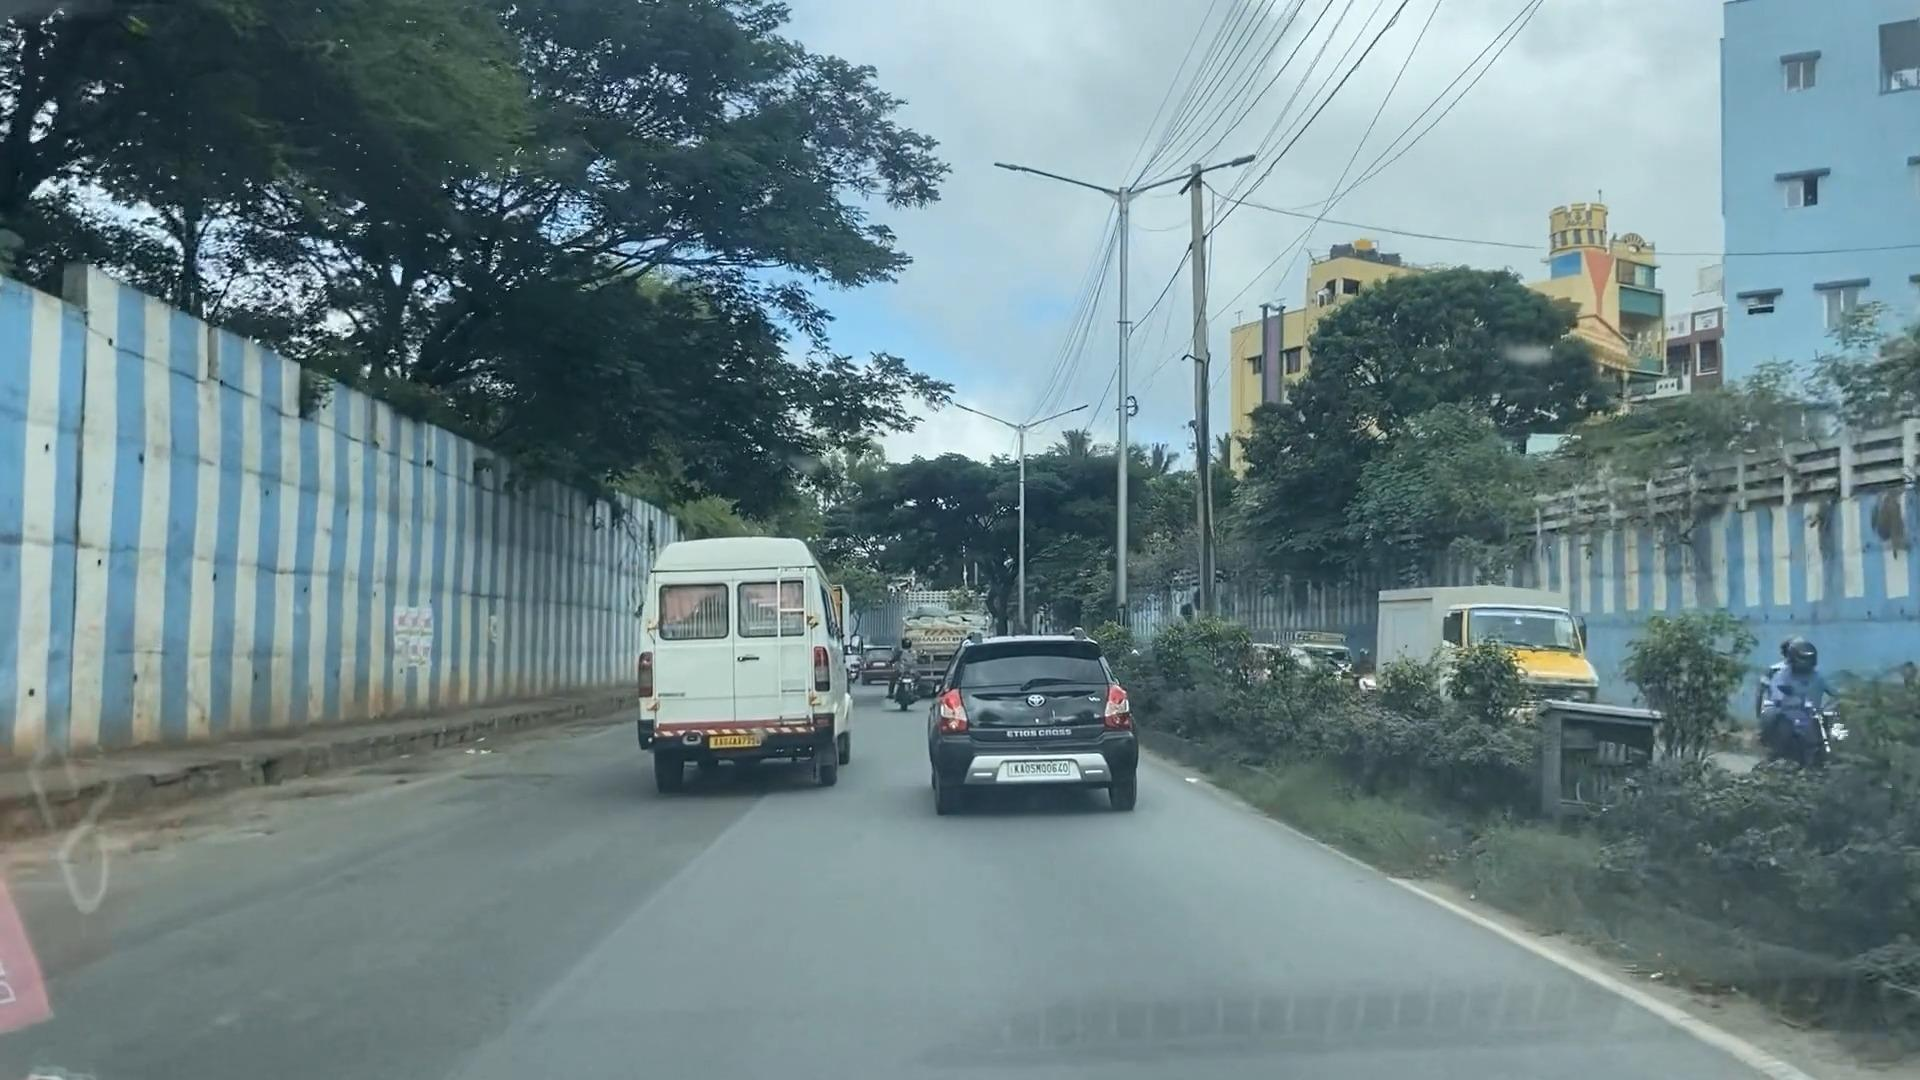HMV: (634, 542, 847, 777)
LMV: (924, 649, 1118, 811)
